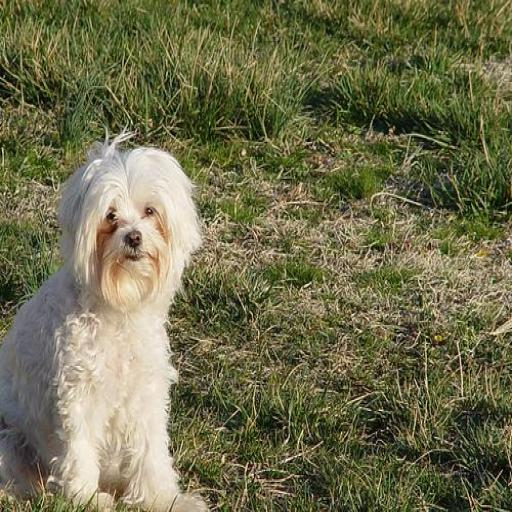dog_face: (60, 143, 195, 306)
